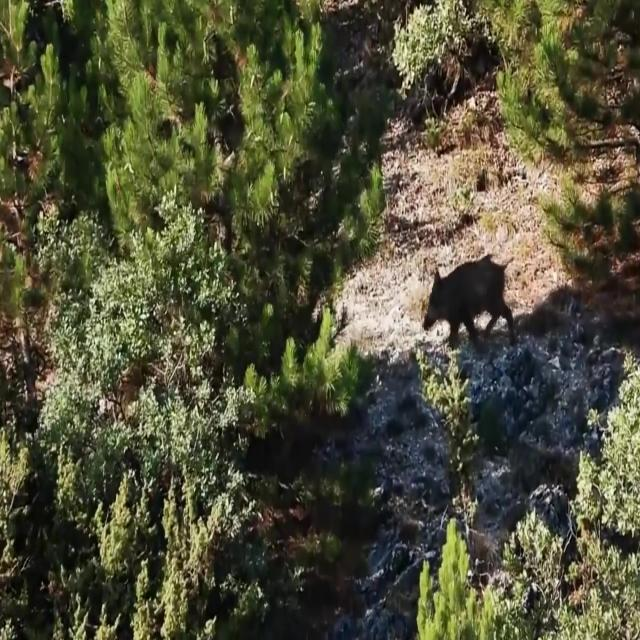pig: (398, 220, 529, 372)
